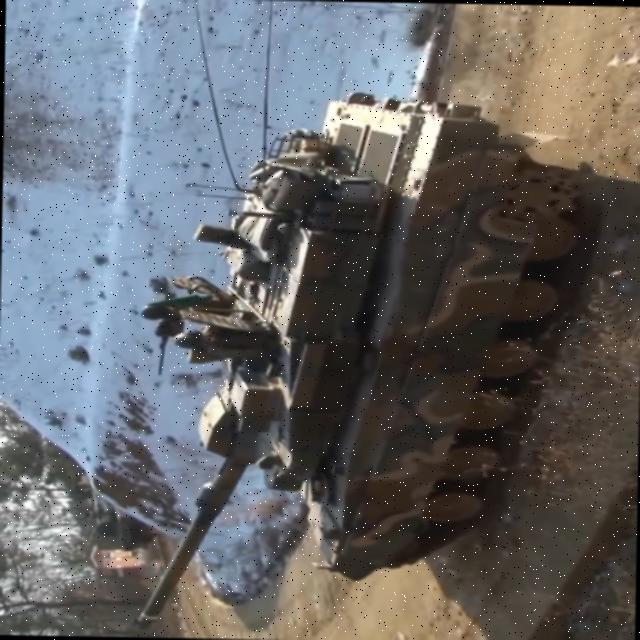korea tank: (121, 84, 598, 640)
